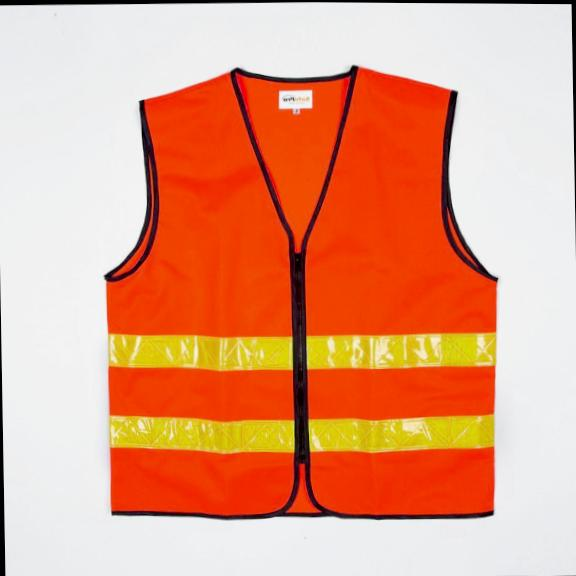safety_vest: (99, 60, 508, 522)
